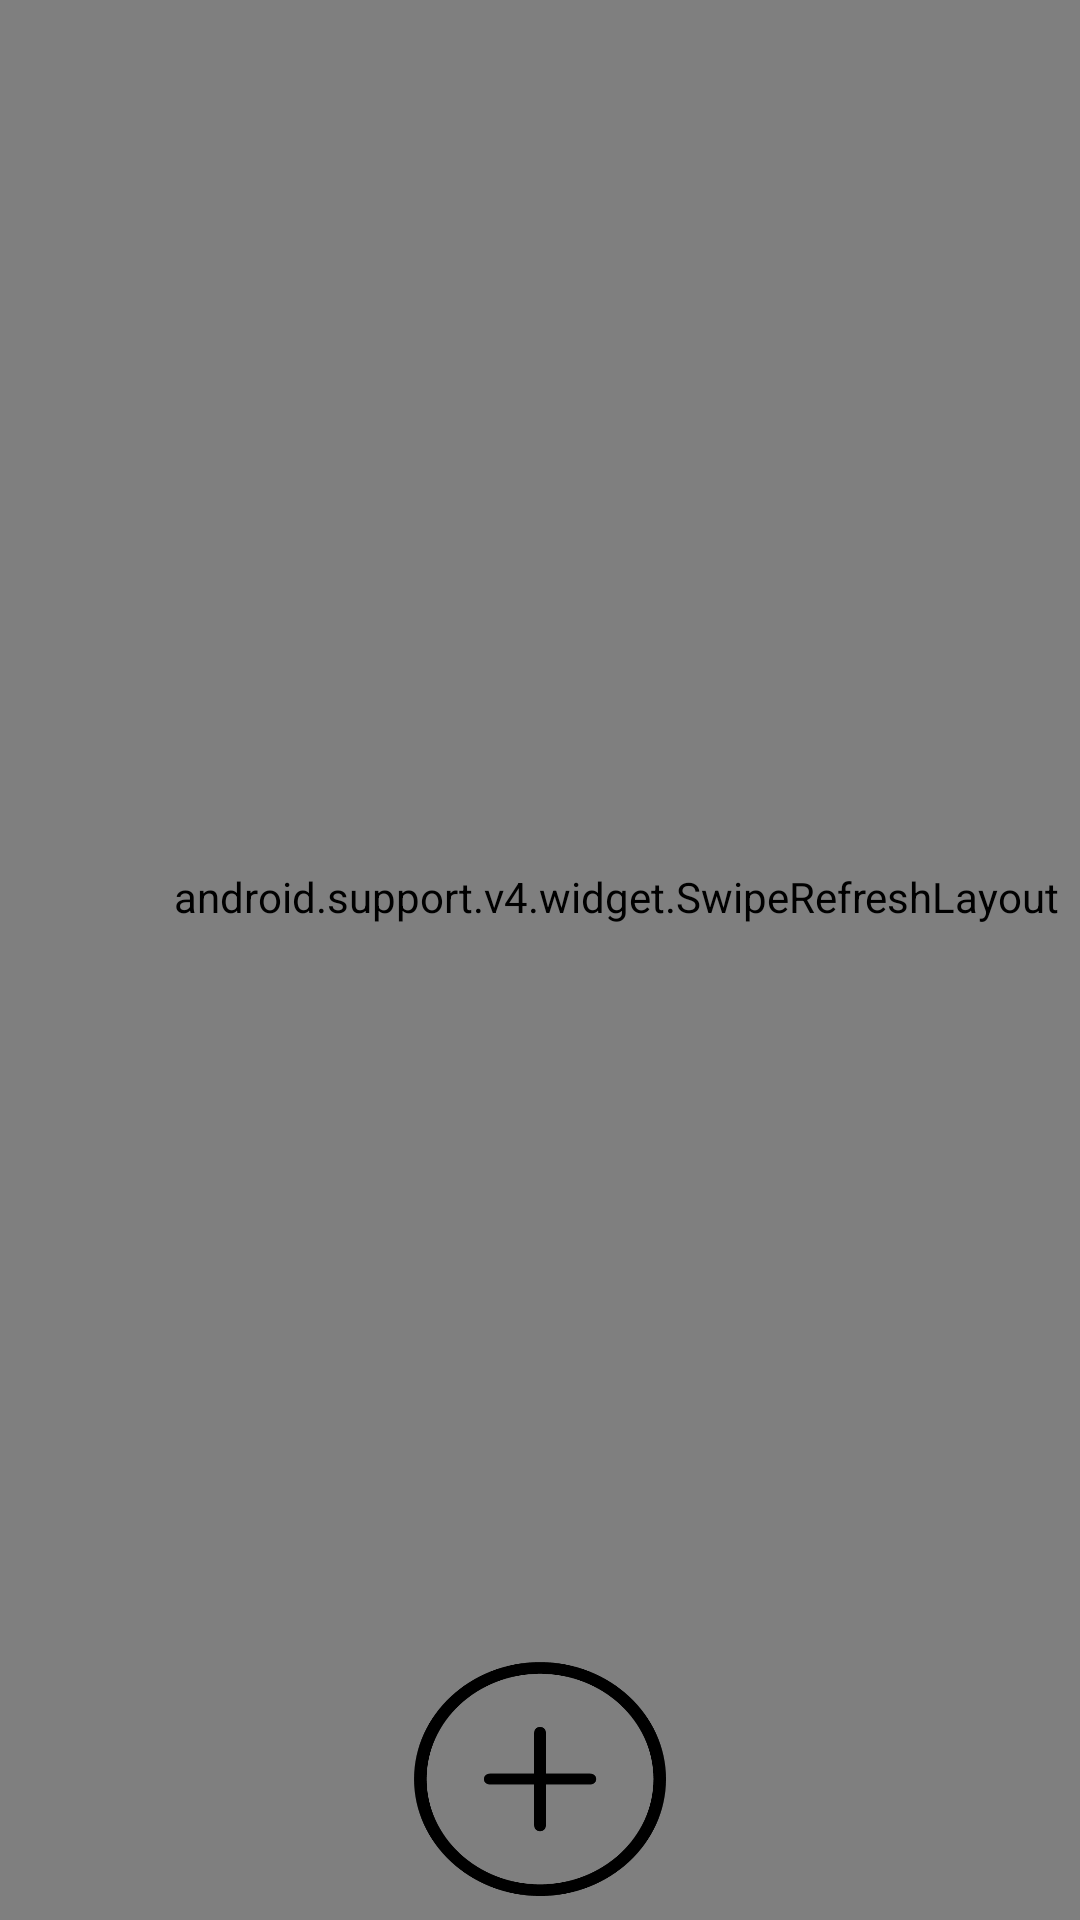

Icon bounding boxes for this 1080px×1920px phone screenshot, format (left=x1, top=y1, right=x2, bottom=y2):
addpostbutton: (left=414, top=1662, right=666, bottom=1896)
